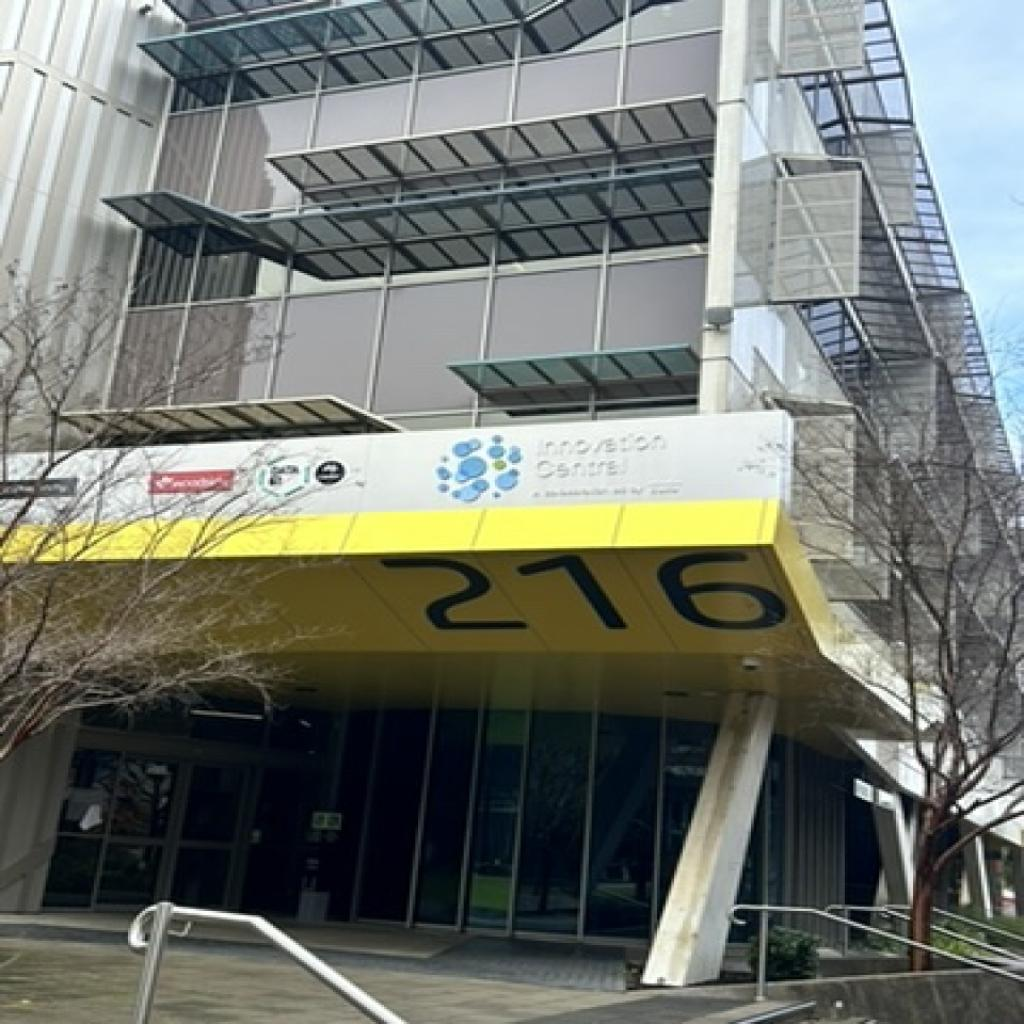BuildingCodes: (376, 544, 800, 642)
